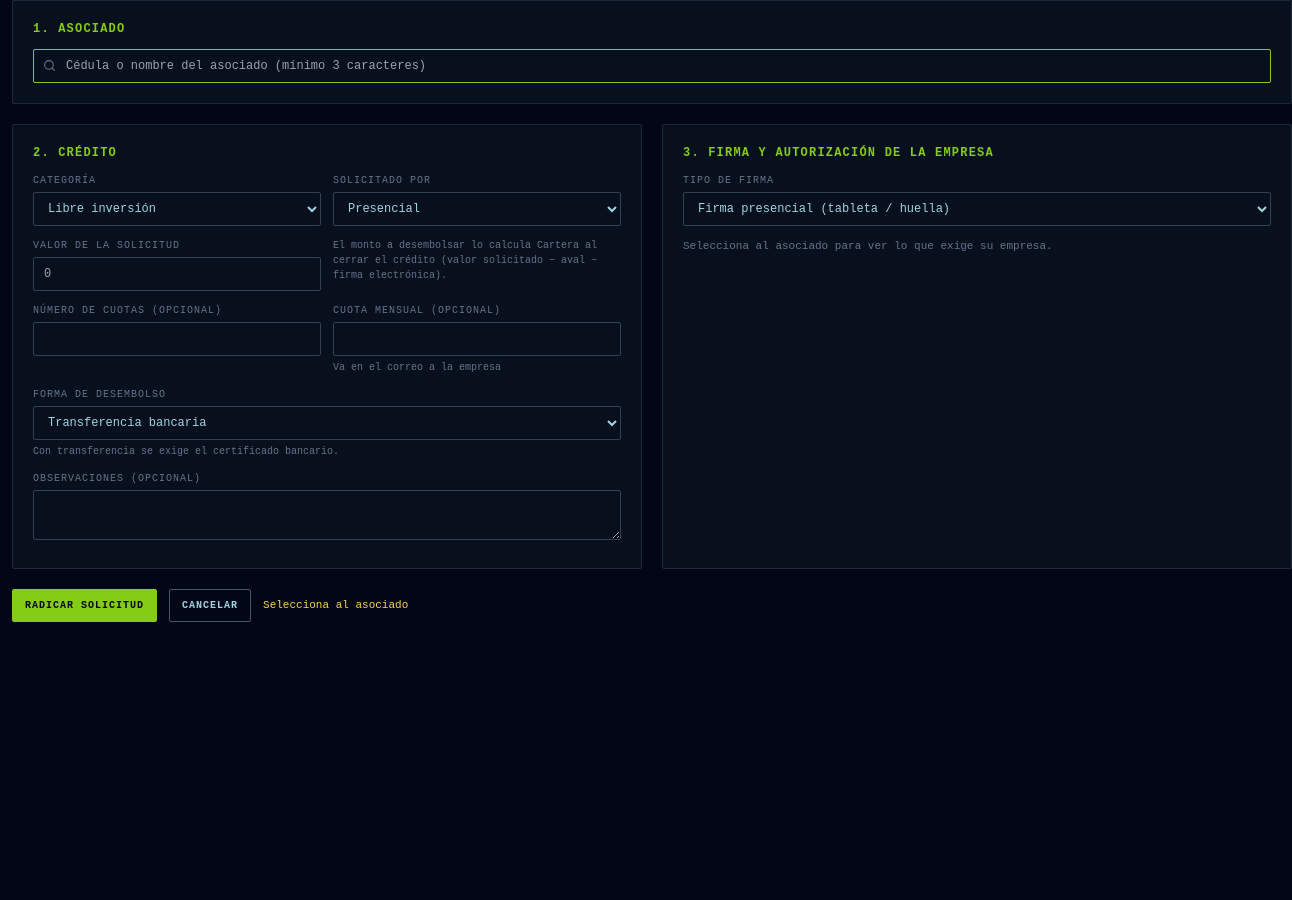
Test: Nueva solicitud — asociado › al elegirlo muestra su ficha y la política de su empresa
The image size is (1292, 900).
In the field named "Buscar asociado": (652, 66) [33,49,1271,83], type "ANA"
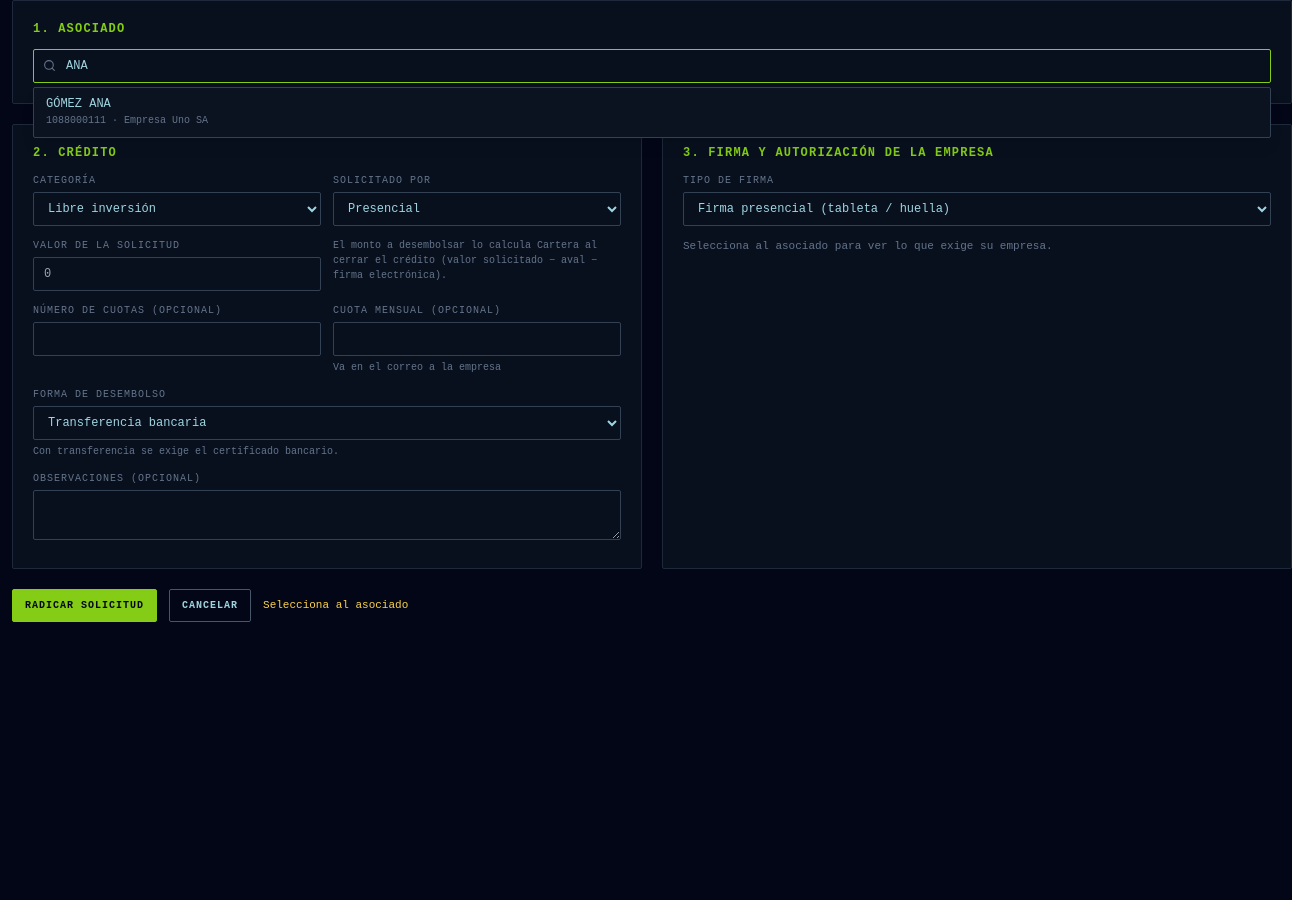
Click the button "GÓMEZ ANA 1088000111 · Empresa Uno SA": (64, 104) [34,88,1270,137]
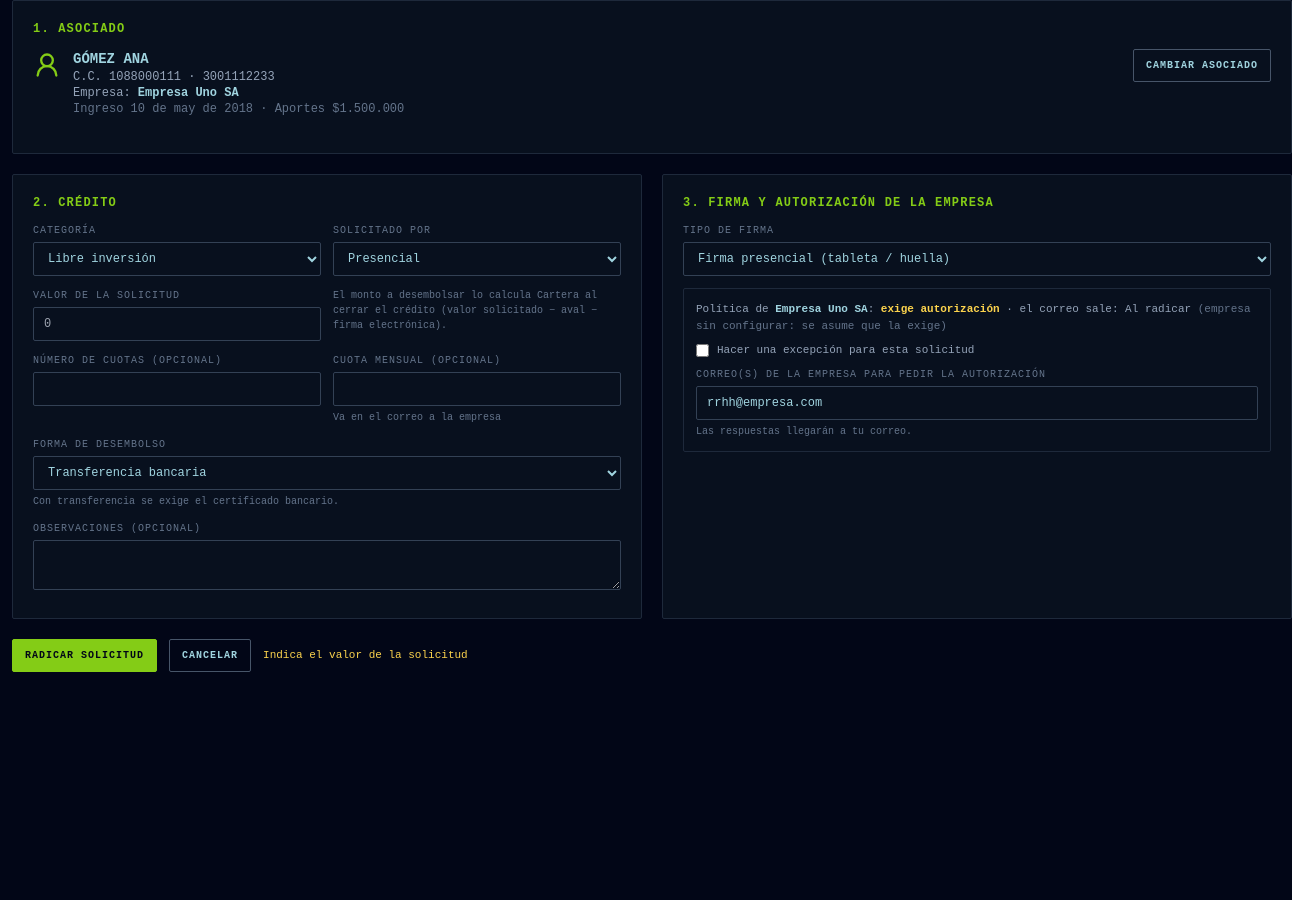
Now the text "GÓMEZ ANA" is shown, box [73,51,149,67]
Now the button "CAMBIAR ASOCIADO" is shown, box [1133,49,1271,82]
Now the text "C.C. 1088000111 · 3001112233" is shown, box [73,70,275,84]
